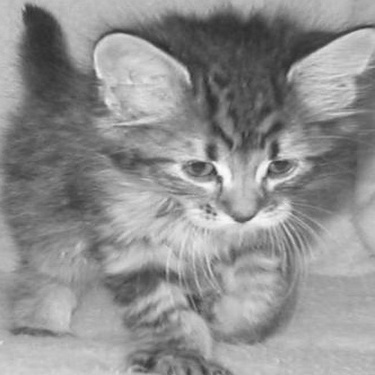cat: (1, 18, 368, 363)
